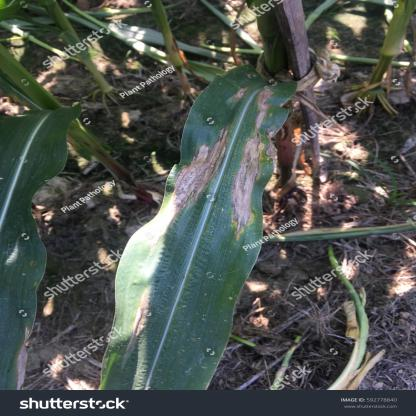corn leaf blight: (95, 74, 304, 384)
